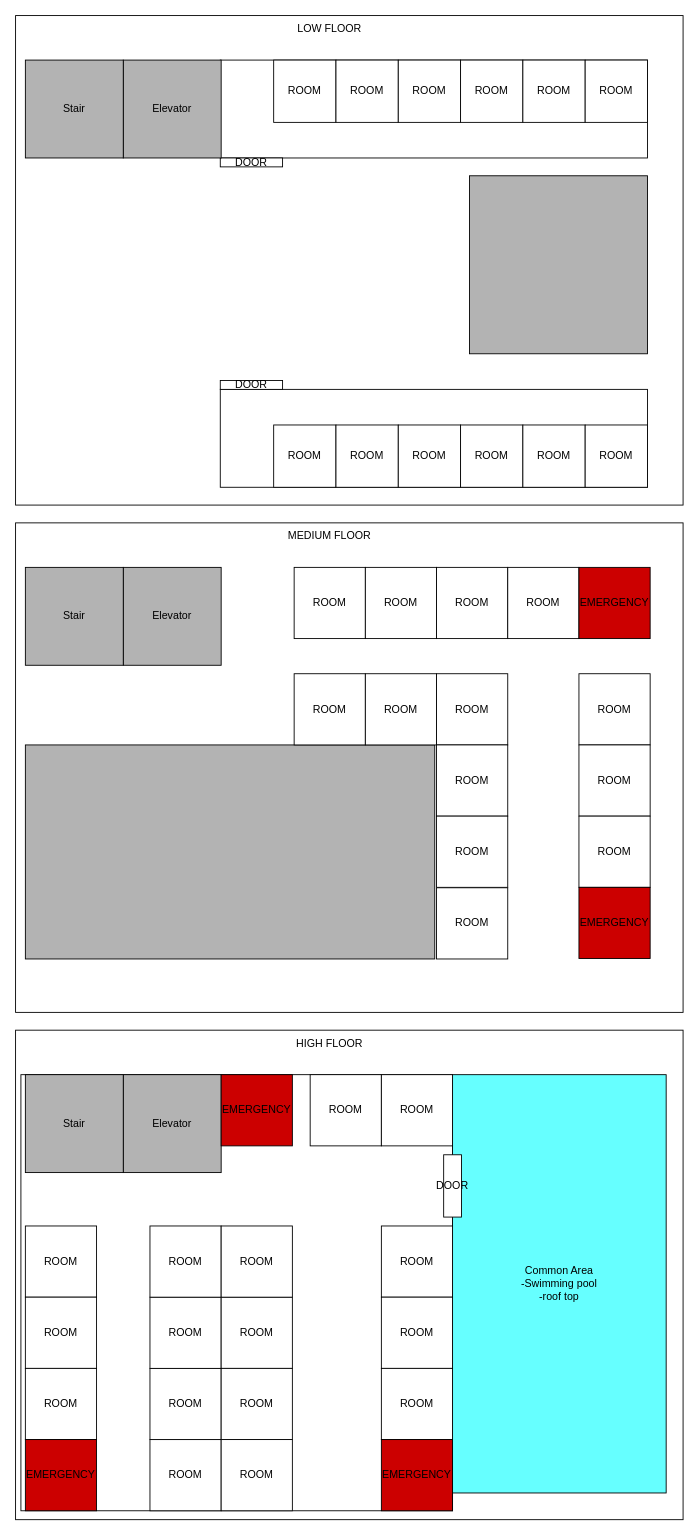
This 699x1535 diagram has some shape labels left out. The shapes that lost their labels are listed below. From the top down, each one's centre as x and y in pixels, then its label:
At (x=558, y=264): "Common Area -Pet friendly".
At (x=229, y=851): "COMMON AREA -non-pet".
